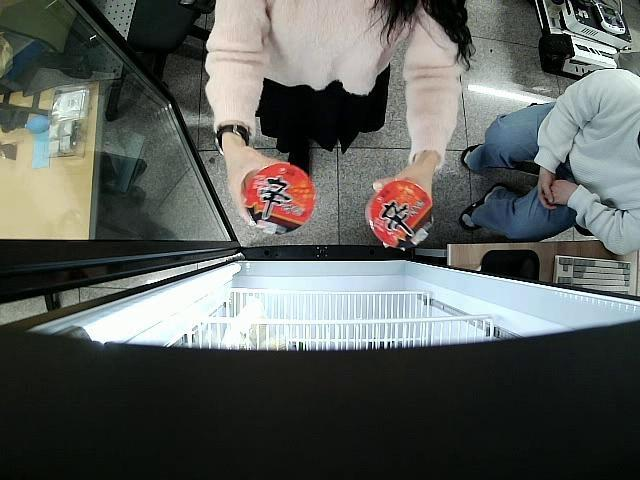02_shinRamen_S: (243, 162, 316, 233), (364, 181, 436, 248)
